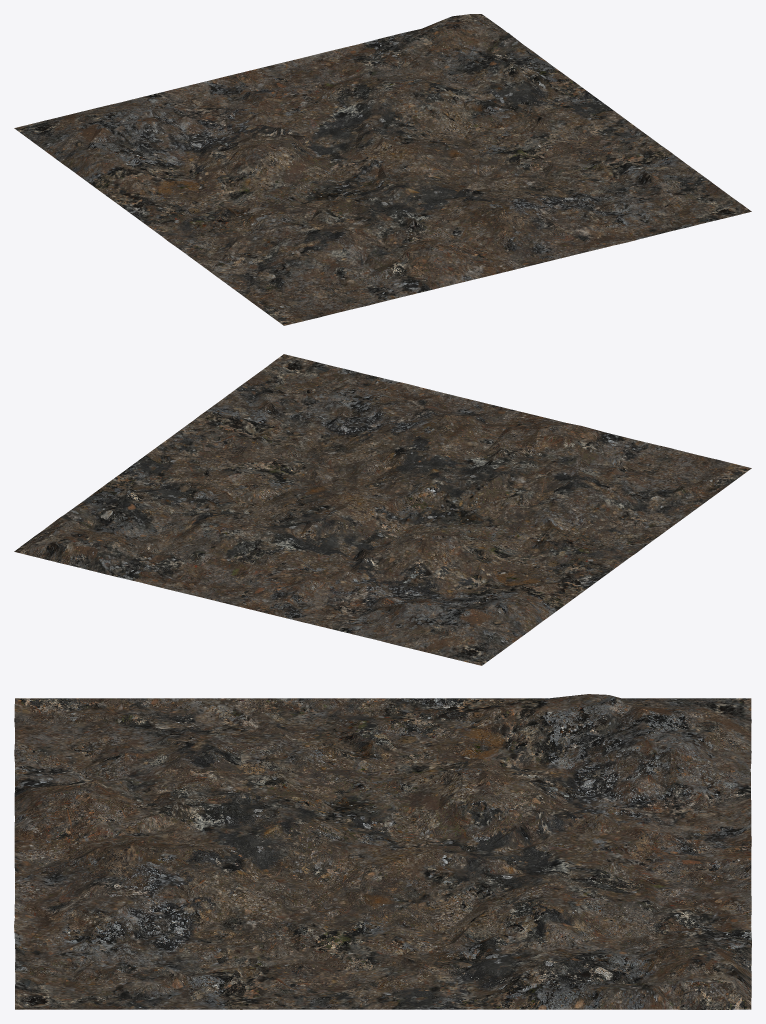
The model's file is Floor_2.fbx.
The picture shows the model from 3 angles, top to bottom: view 1: azimuth 30°, elevation 25°; view 2: azimuth 150°, elevation 25°; view 3: azimuth 270°, elevation 25°; orthographic projection. The views are drawn at different scales.
Visible parts, largest first — view 1: Floor_2; view 2: Floor_2; view 3: Floor_2.
Boxes of the visible parts, left/top/right/bottom form: Floor_2: left=14, top=14, right=751, bottom=325; Floor_2: left=14, top=354, right=751, bottom=665; Floor_2: left=14, top=694, right=751, bottom=1009.
Bounding box in the file's own units: 401 × 23.2 × 401.
